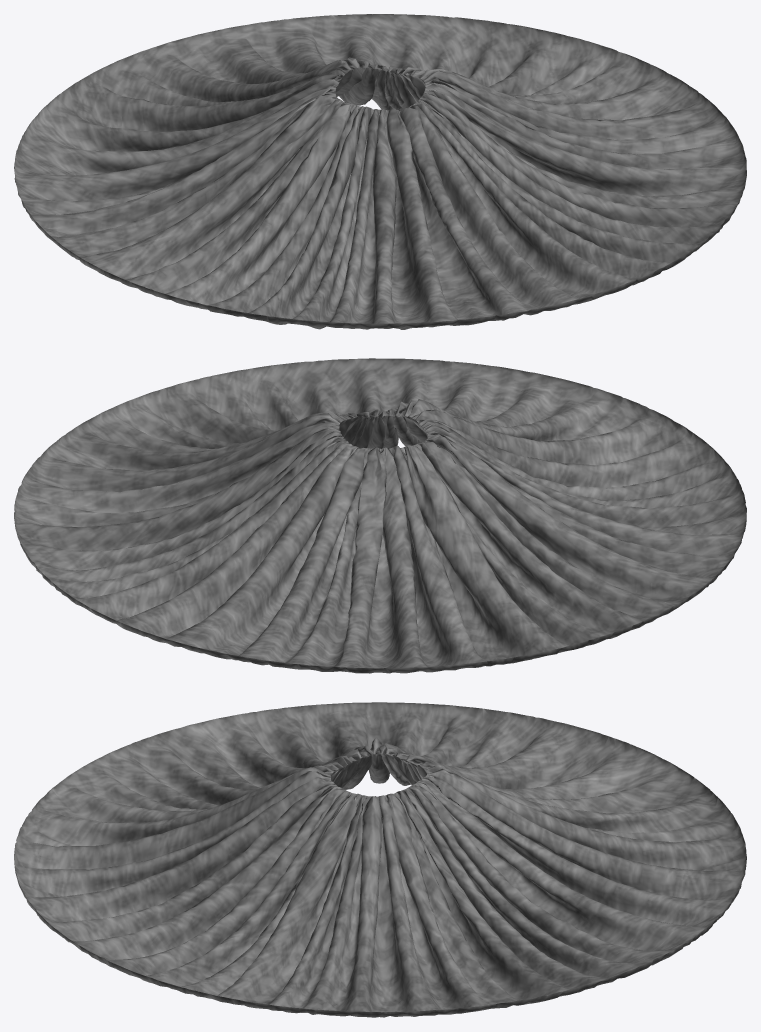
The model's file is gcdl3.gltf.
3 renders of one model, top to bottom at view 1: azimuth 30°, elevation 25°; view 2: azimuth 150°, elevation 25°; view 3: azimuth 270°, elevation 25°, orthographic.
Parts seen in each view (by area): view 1: gcdl3; view 2: gcdl3; view 3: gcdl3.
Part boxes in pixels (x1=…): gcdl3: x1=14, y1=14, x2=746, y2=329; gcdl3: x1=14, y1=358, x2=746, y2=673; gcdl3: x1=14, y1=702, x2=746, y2=1017.
Size of the model in its own units: 7.82 by 1.54 by 7.82.
1 material, 1 textured.
